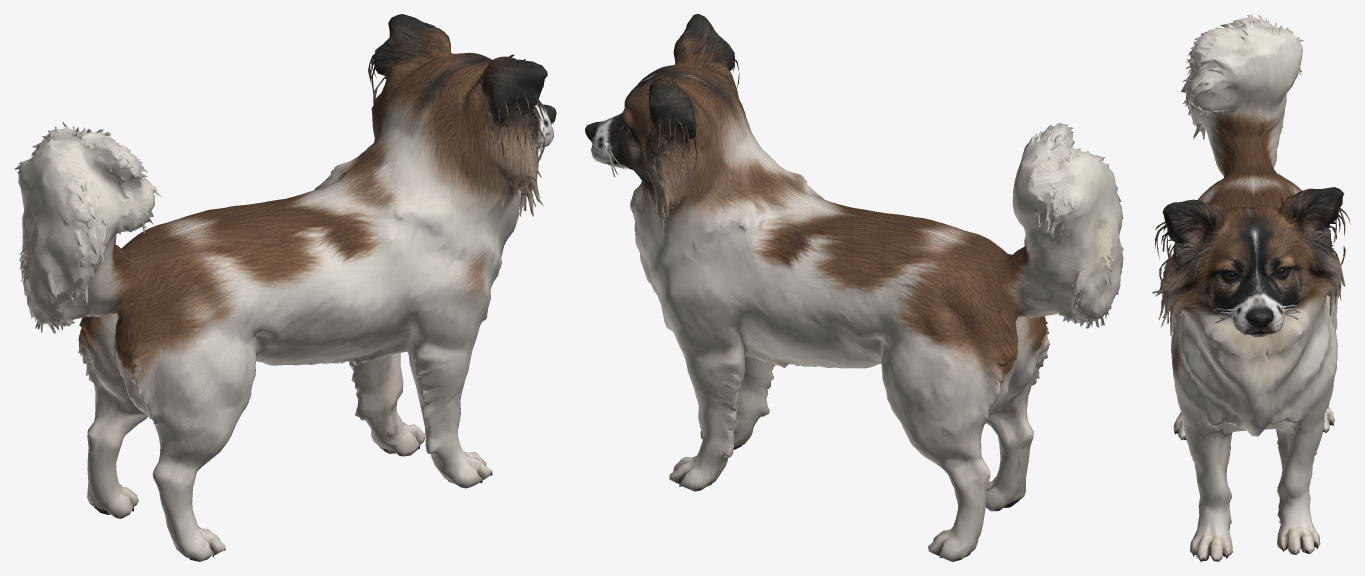
Rendered from nani.glb.
3 views of the same model, side by side, from view 1: azimuth 30°, elevation 25°; view 2: azimuth 150°, elevation 25°; view 3: azimuth 270°, elevation 25° (orthographic). The views are drawn at different scales.
Parts seen in each view (by area): view 1: tripo_node_cf1948ea-d18a-4267-9a3f-1f1590ac5ff3; view 2: tripo_node_cf1948ea-d18a-4267-9a3f-1f1590ac5ff3; view 3: tripo_node_cf1948ea-d18a-4267-9a3f-1f1590ac5ff3.
Boxes of the visible parts, left/top/right/bottom form: tripo_node_cf1948ea-d18a-4267-9a3f-1f1590ac5ff3: left=14, top=14, right=556, bottom=561; tripo_node_cf1948ea-d18a-4267-9a3f-1f1590ac5ff3: left=585, top=14, right=1123, bottom=561; tripo_node_cf1948ea-d18a-4267-9a3f-1f1590ac5ff3: left=1152, top=14, right=1350, bottom=561.
Bounding box in the file's own units: 1 × 0.7557 × 0.3553.
1 material, 1 textured.
